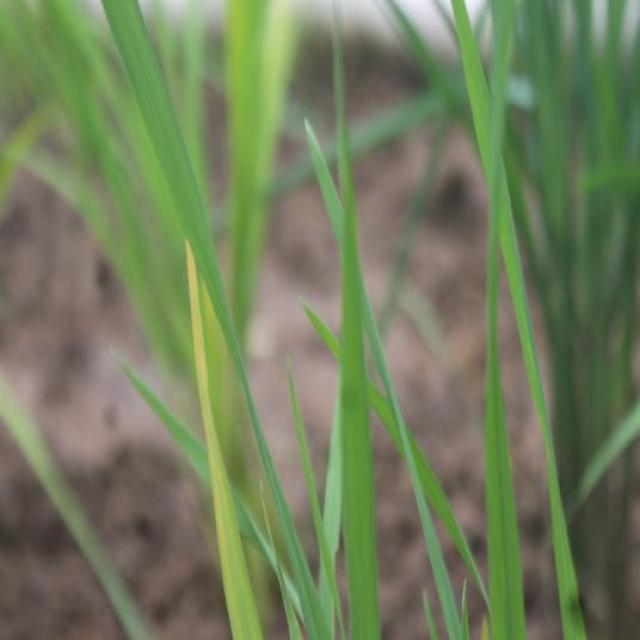Tungro: (170, 212, 272, 640)
